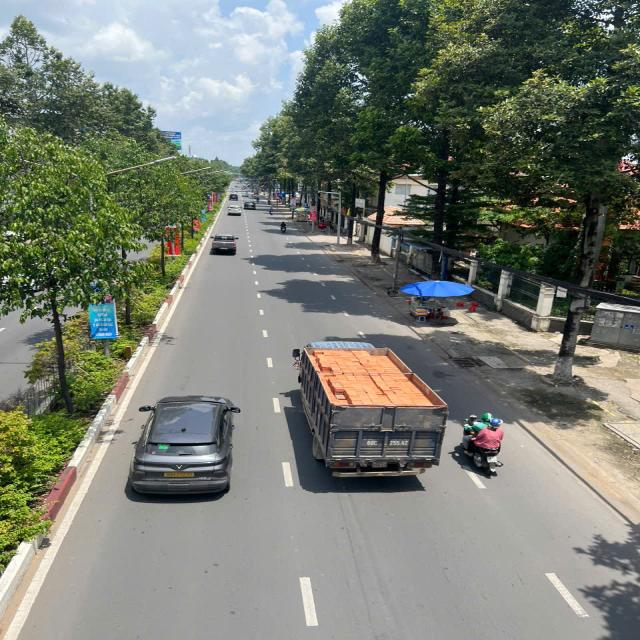ben: (286, 338, 453, 480)
car: (125, 394, 245, 500), (206, 231, 241, 256), (224, 202, 244, 217), (242, 198, 258, 210)
motobyte: (456, 407, 509, 478), (276, 218, 291, 235), (267, 203, 276, 218)
